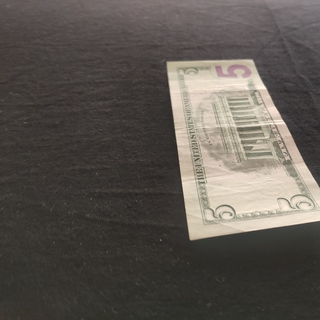5USDBack: (163, 58, 320, 242)
